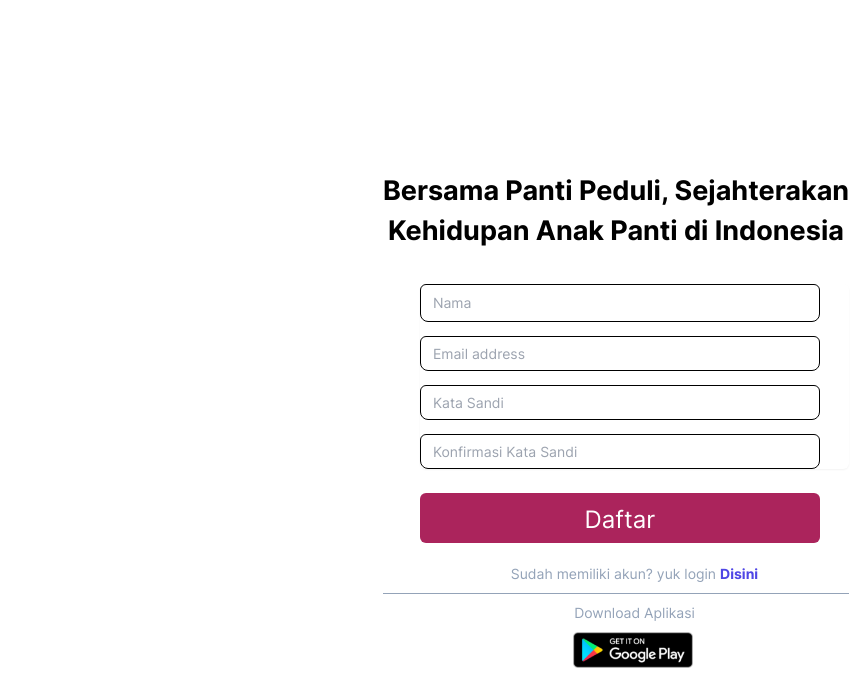
it: Daftar panti › Menampilkan pesan berhasil signup jika semua field diisi dengan benar
In the field labelled "Nama": (620, 302) x1=420 y1=284 x2=820 y2=322, type "John Doe"
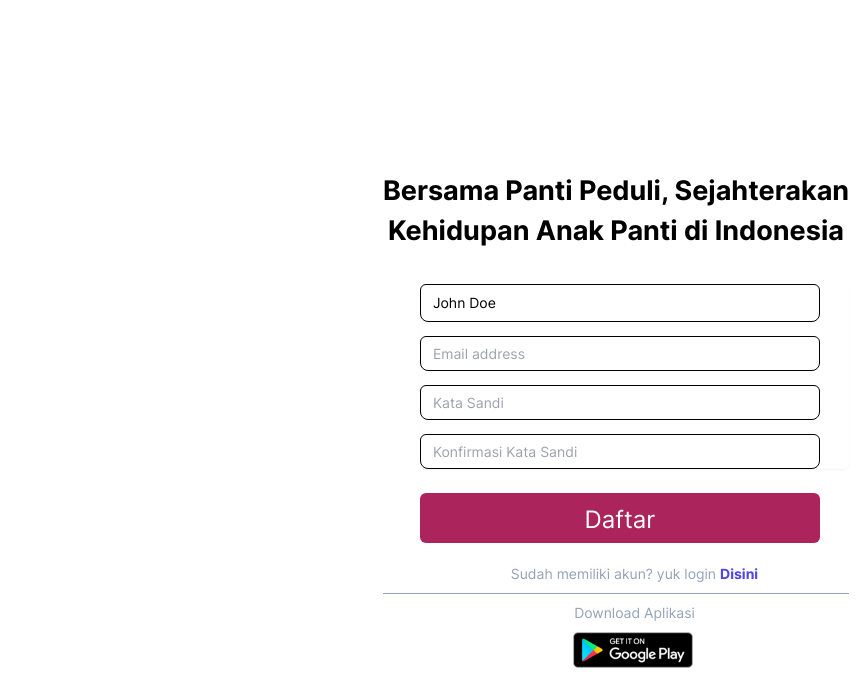
In the field labelled "Email address": (620, 353) x1=420 y1=336 x2=820 y2=370, type "test@example.com"
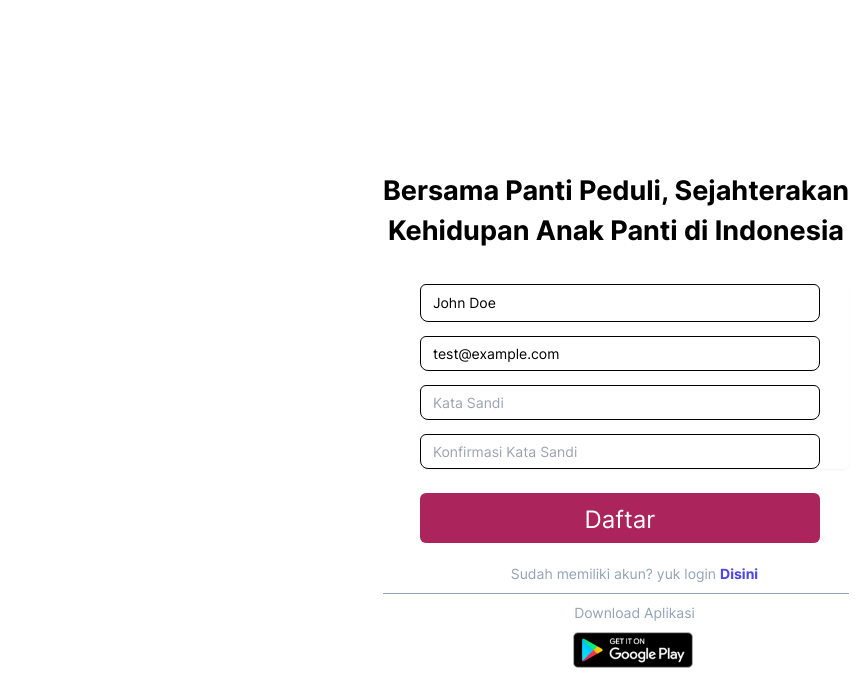
In the password field labelled "Kata Sandi": (620, 402) x1=420 y1=384 x2=820 y2=420, type "password123"
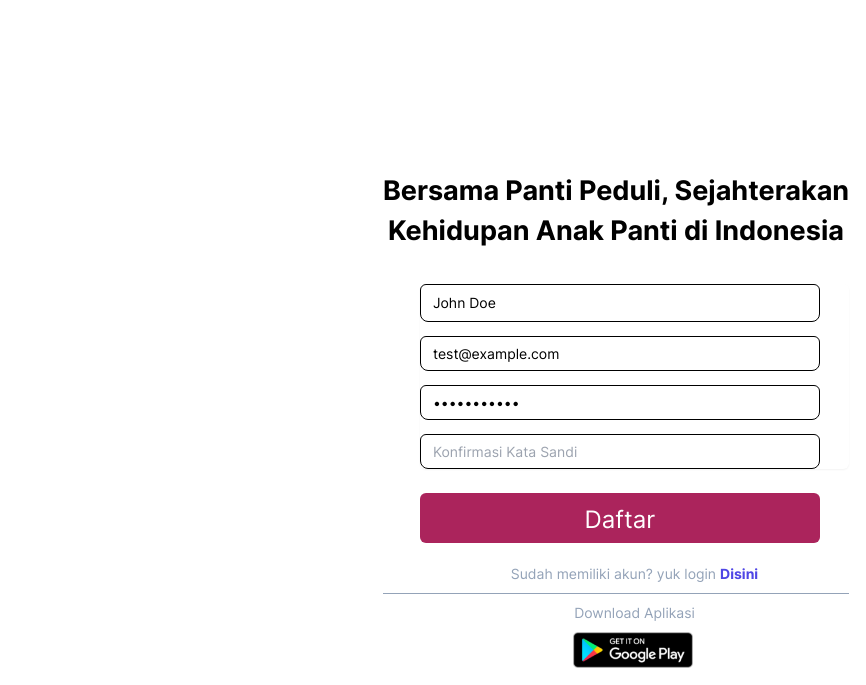
In the password field labelled "Konfirmasi Kata Sandi": (620, 451) x1=420 y1=434 x2=820 y2=468, type "password123"
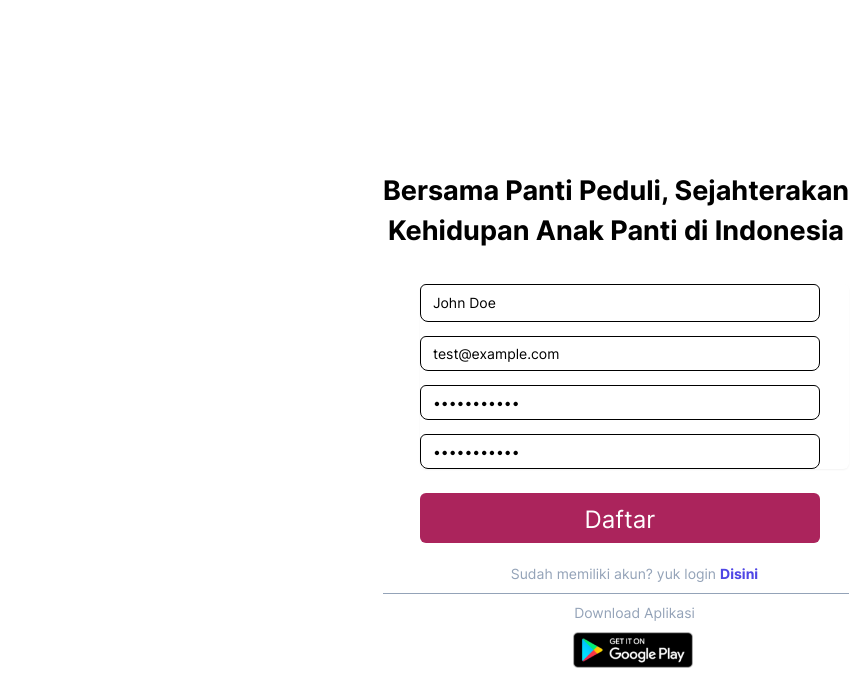
Click the button "Daftar": (620, 518) x1=420 y1=492 x2=820 y2=542
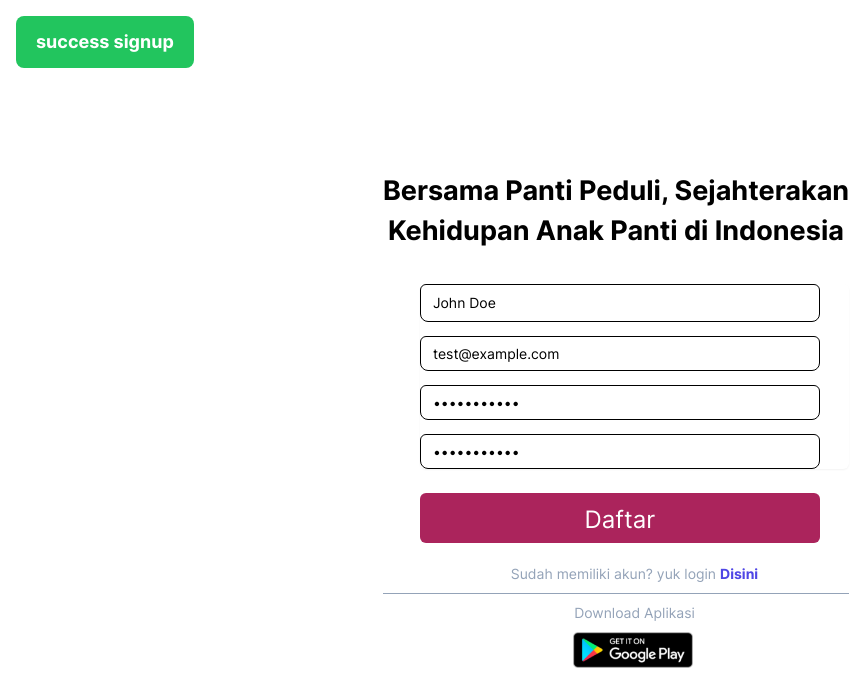
Result: the text "success signup" is shown at x1=36 y1=31 x2=174 y2=52
